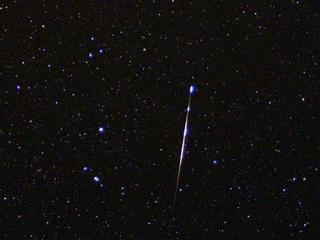meteorite: (173, 82, 201, 202)
